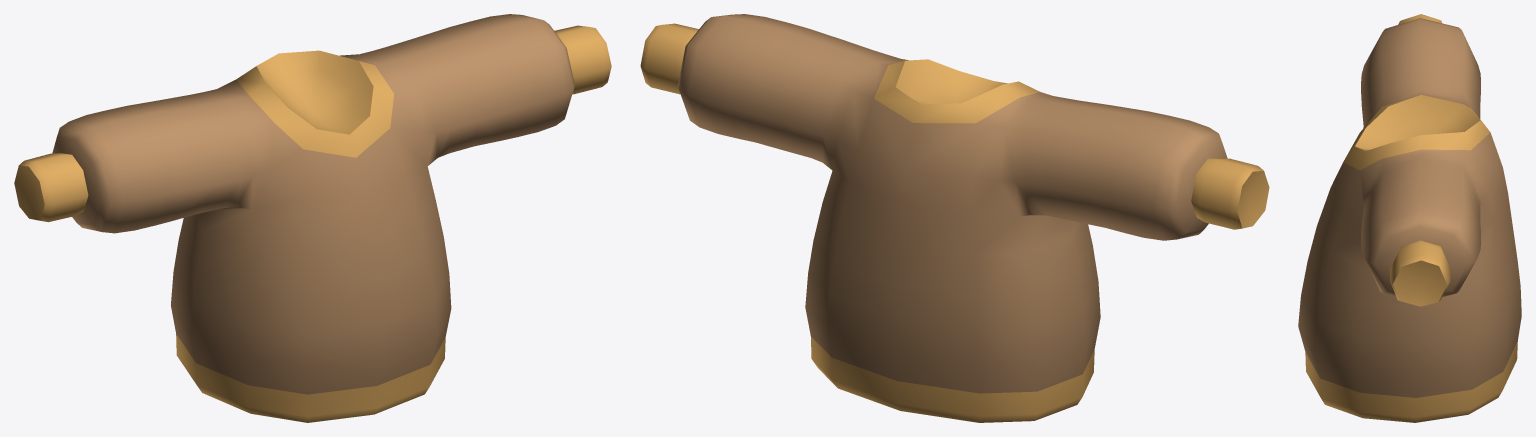
File: Top_19.fbx
3 renders of one model, left to right at view 1: azimuth 30°, elevation 25°; view 2: azimuth 150°, elevation 25°; view 3: azimuth 270°, elevation 25°, orthographic. The views are drawn at different scales.
Visible parts, largest first — view 1: Top_19; view 2: Top_19; view 3: Top_19.
Part boxes in pixels (x1,y1,x2,y2): Top_19: [14, 14, 611, 422]; Top_19: [640, 14, 1269, 422]; Top_19: [1298, 14, 1521, 422].
Size of the model in its own units: 95.16 by 47.67 by 36.49.
